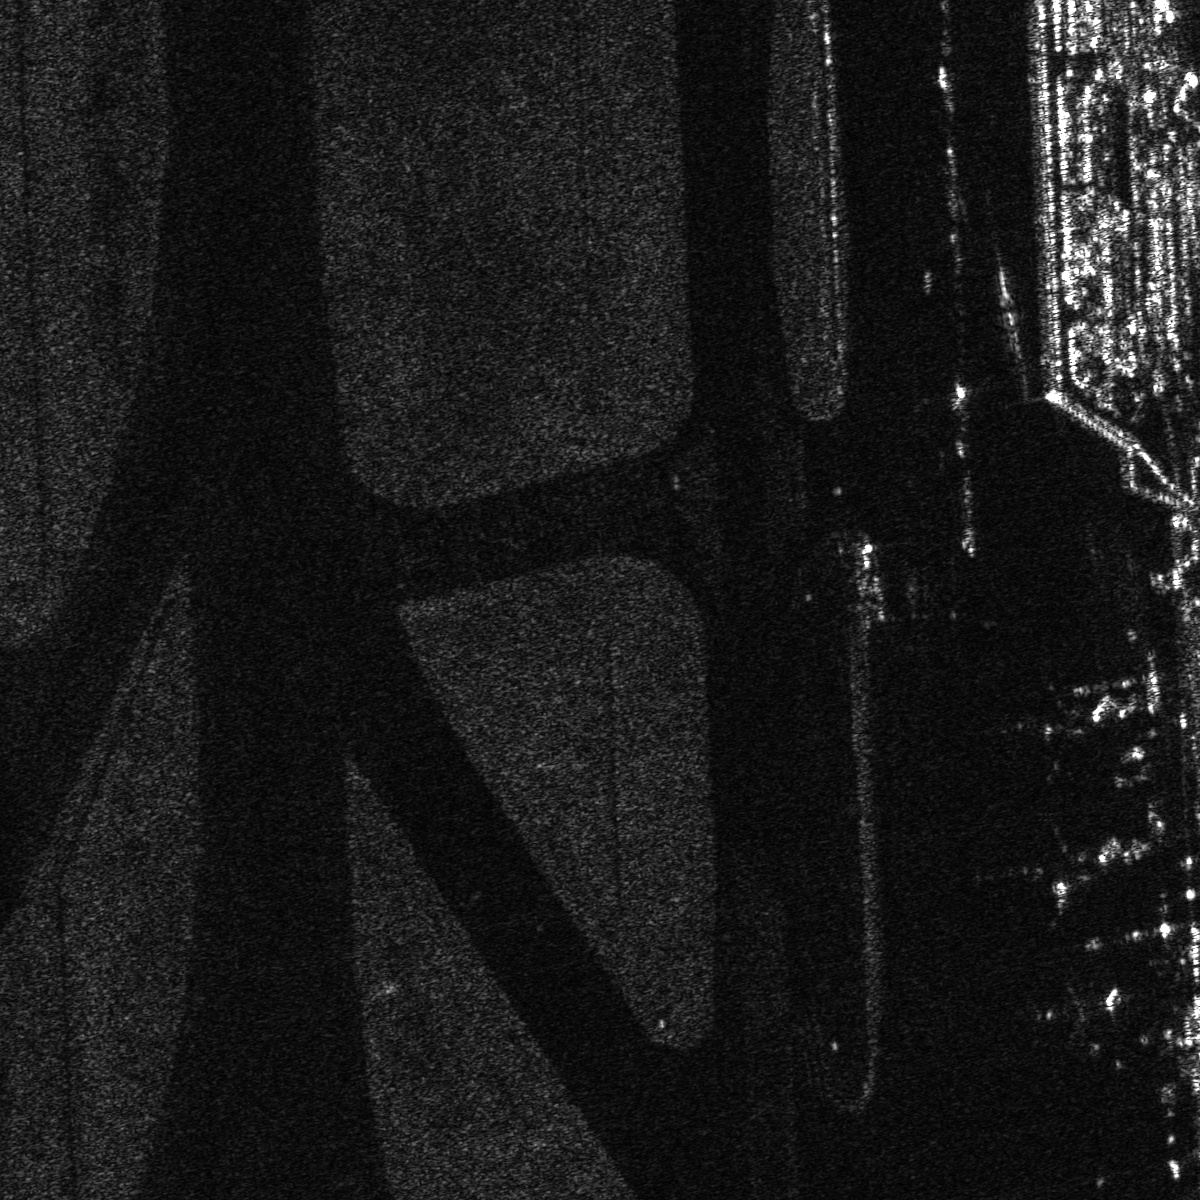ARJ21: (1012, 811, 1173, 920)
other: (1043, 641, 1175, 766), (1034, 981, 1120, 1051)
